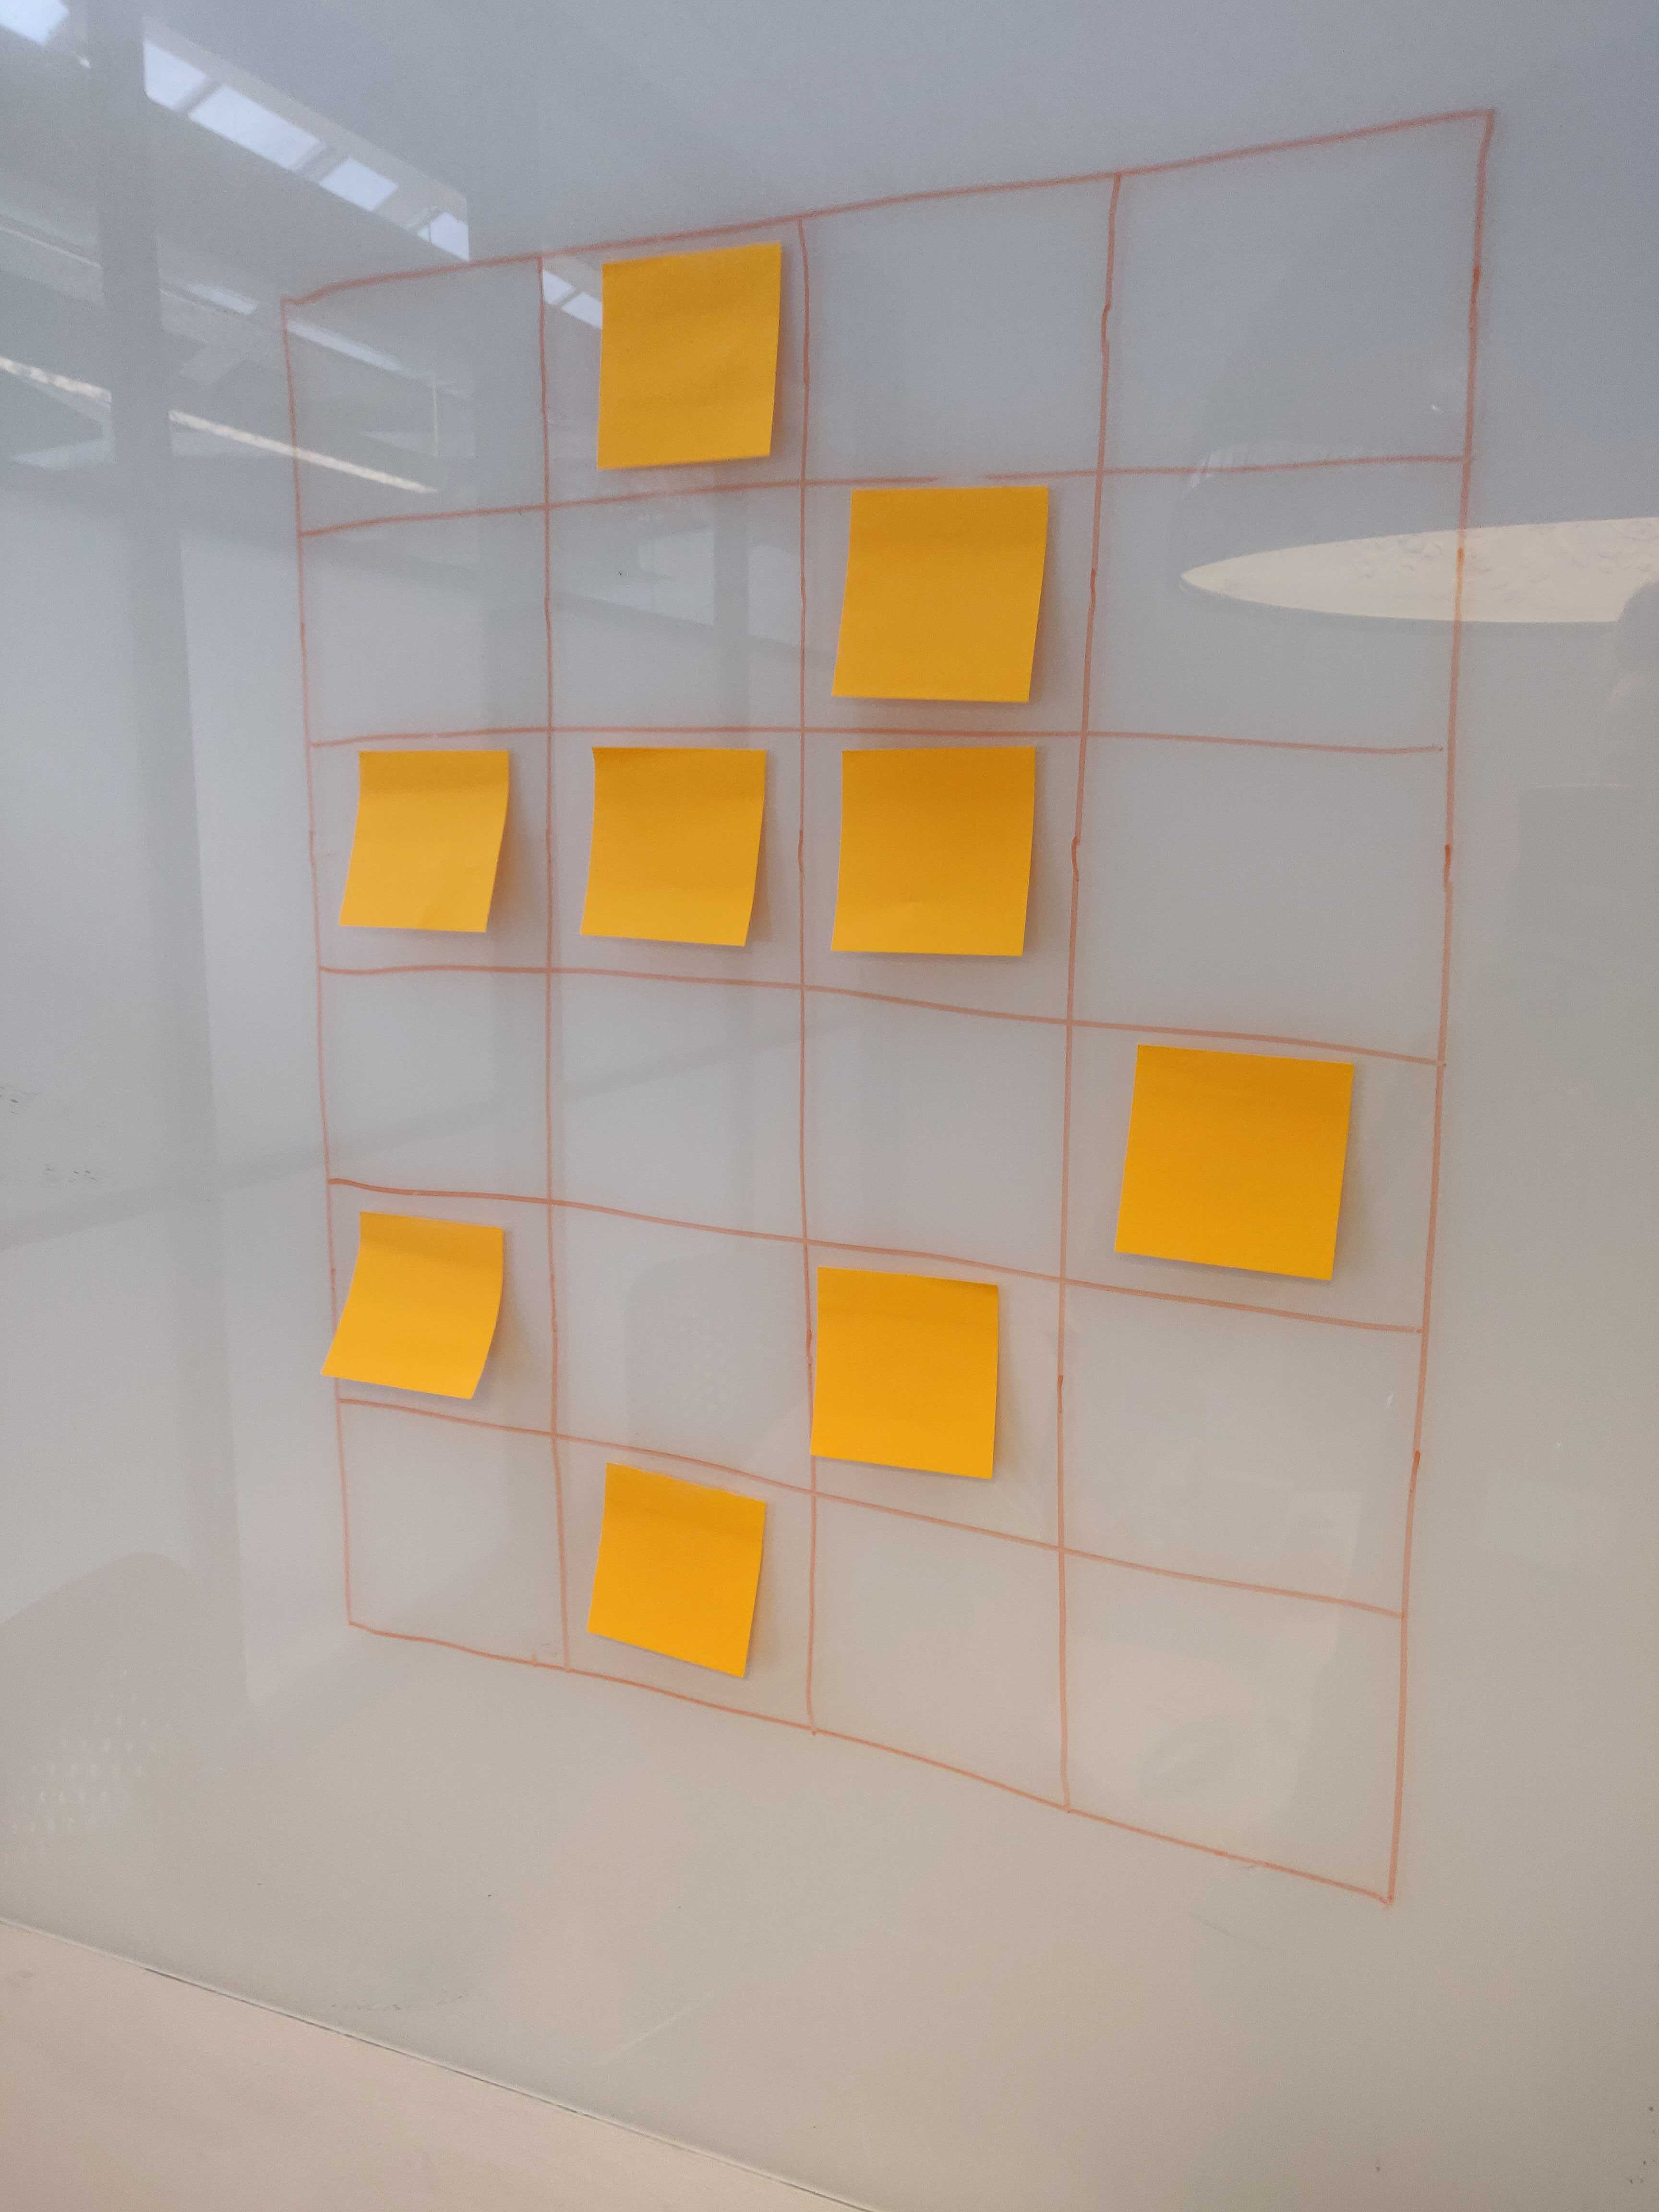stickynote: (1096, 1035, 1392, 1299), (821, 475, 1072, 718), (784, 1243, 1027, 1486), (824, 744, 1061, 979), (571, 1446, 779, 1689), (576, 728, 792, 952), (587, 243, 800, 464), (309, 1198, 523, 1403), (325, 739, 523, 934)
